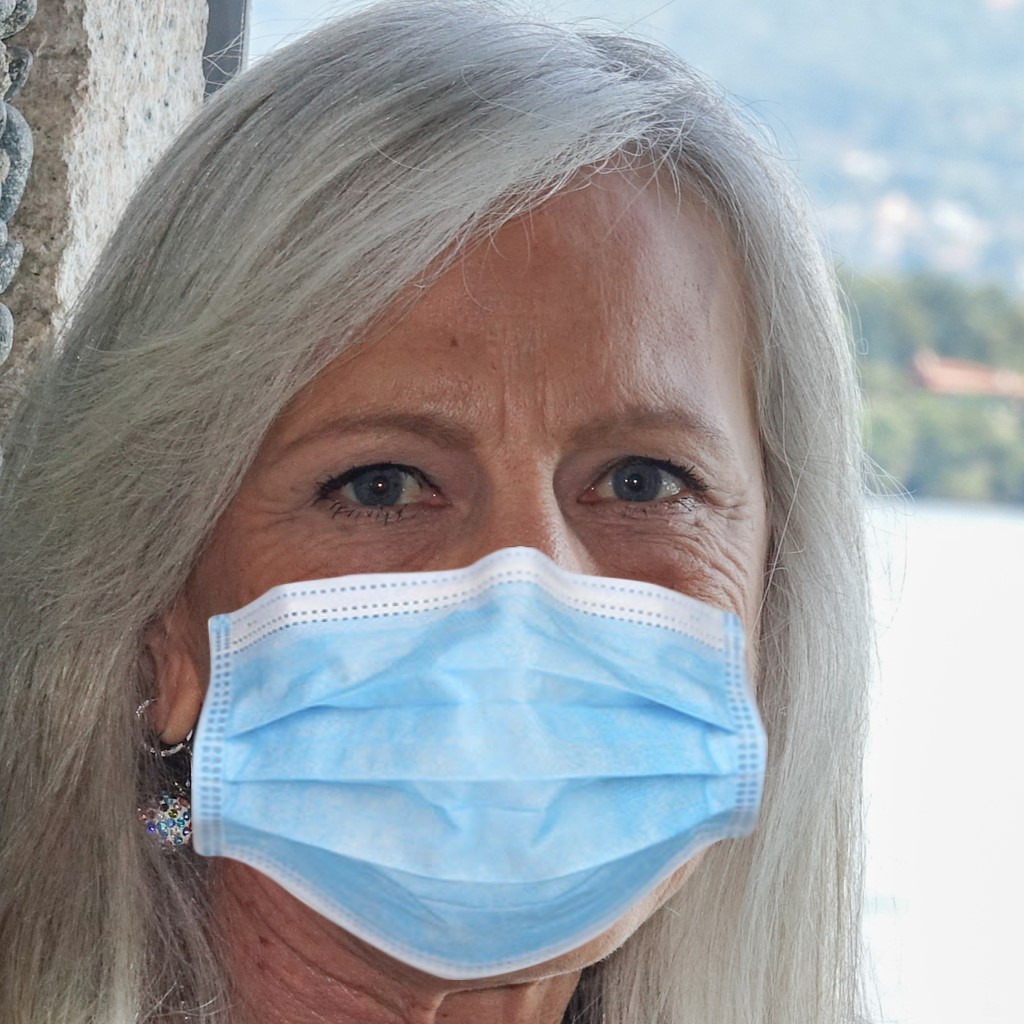con_mascara: (149, 117, 780, 982)
